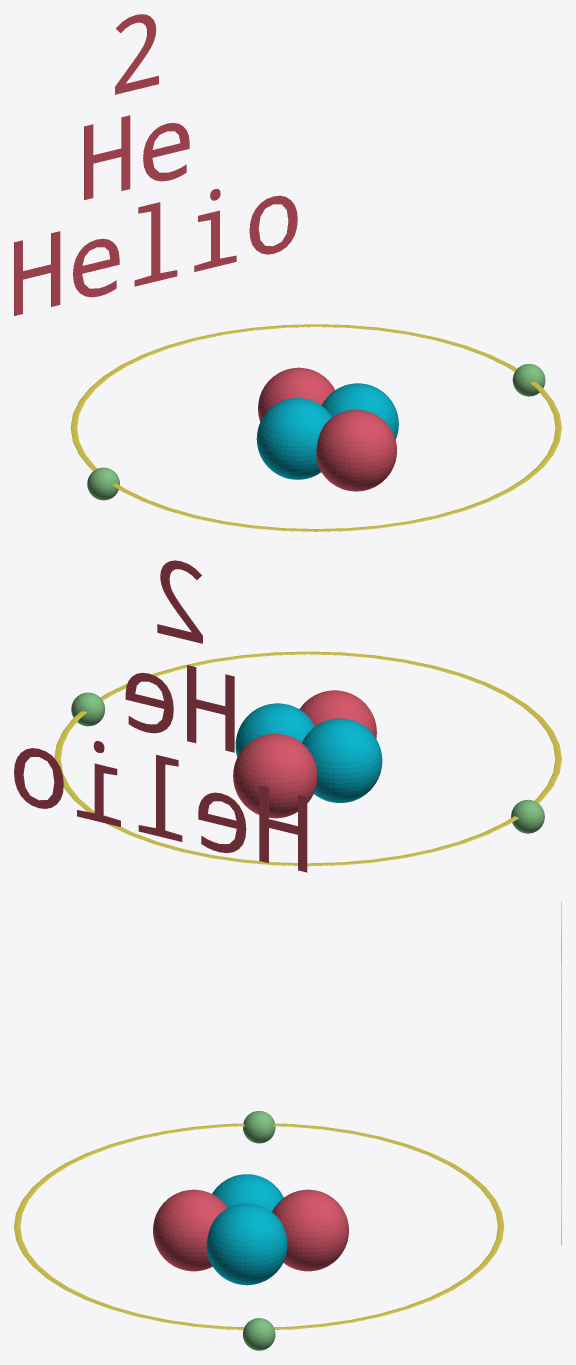
The model's file is 02-HELIO-ANDROID.glb.
3 views of the same model, one above another, from view 1: azimuth 30°, elevation 25°; view 2: azimuth 150°, elevation 25°; view 3: azimuth 270°, elevation 25° (orthographic). The views are drawn at different scales.
Visible parts, largest first — view 1: Mesh_Mesh_head_geo.001_lambert2SG.001; view 2: Mesh_Mesh_head_geo.001_lambert2SG.001; view 3: Mesh_Mesh_head_geo.001_lambert2SG.001.
Part boxes in pixels (x1=…): Mesh_Mesh_head_geo.001_lambert2SG.001: x1=14, y1=14, x2=561, y2=531; Mesh_Mesh_head_geo.001_lambert2SG.001: x1=14, y1=560, x2=561, y2=872; Mesh_Mesh_head_geo.001_lambert2SG.001: x1=14, y1=901, x2=561, y2=1350.
Size of the model in its own units: 128 by 93.4 by 134.
